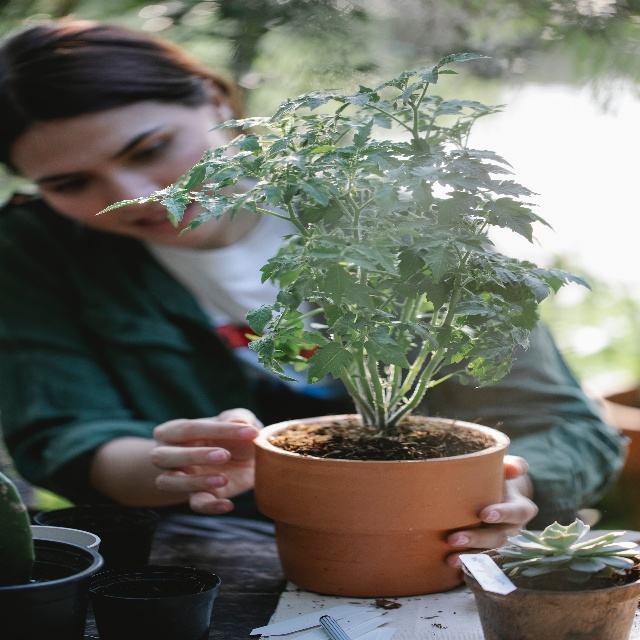Sin_guantes: (150, 407, 264, 516), (444, 455, 538, 567)
